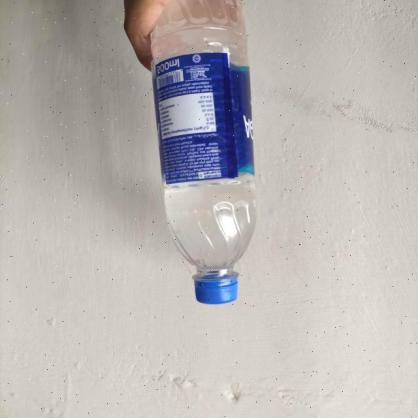bottle: (149, 0, 262, 306)
cap: (191, 267, 242, 305)
label: (154, 51, 262, 184)
